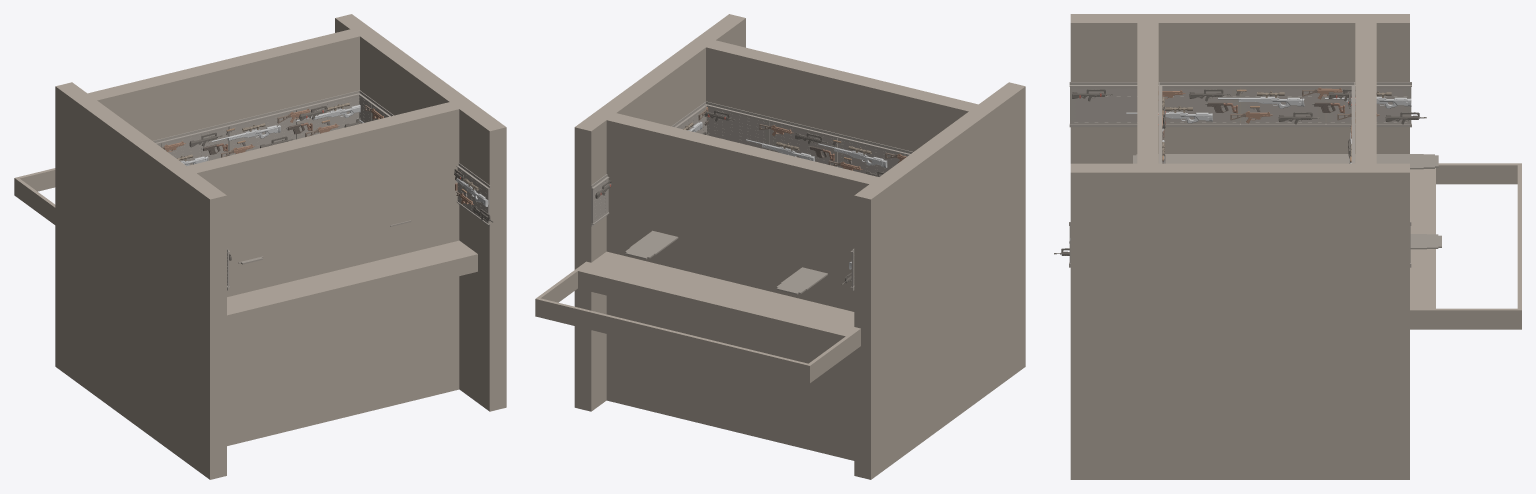
The model's file is armurerie.glb.
3 views of the same model, side by side, from view 1: azimuth 30°, elevation 25°; view 2: azimuth 150°, elevation 25°; view 3: azimuth 270°, elevation 25° (orthographic). The views are drawn at different scales.
Visible parts, largest first — view 1: Center__4_, Center__3_, Center__2_, Center__1_, Center, prop_4__2_, prop_4__1_, prop_4__3_, prop_4__3__2, Border_3, Border; view 2: Center__1_, Center__3_, Center__4_, Center__2_, Center, Border, prop_4_1, prop_4__1__1, prop_4__2__1, Border_3, prop_3_3, prop_3 (+2 smaller); view 3: Center__2_, Center__3_, Center, Center__4_, Center__1_, prop_4__2__3, prop_4_3, prop_3, prop_4__1__3, Border_2, prop_4__3__3, Border_3 (+2 smaller).
Boxes of the visible parts, box(x1,y1,x2,y2) form: Center__4_: box(184, 101, 460, 445); Center__3_: box(55, 82, 226, 479); Center__2_: box(335, 14, 506, 411); Center__1_: box(88, 29, 359, 140); Center: box(227, 240, 477, 332); prop_4__2_: box(228, 106, 296, 155); prop_4__1_: box(160, 122, 229, 165); prop_4__3_: box(296, 90, 359, 139); prop_4__3__2: box(456, 163, 490, 226); Border_3: box(16, 178, 55, 224); Border: box(14, 168, 55, 196); Center__1_: box(606, 113, 881, 460); Center__3_: box(854, 82, 1025, 479); Center__4_: box(705, 40, 981, 151); Center__2_: box(574, 14, 745, 411); Center: box(578, 251, 857, 349); Border: box(535, 297, 811, 383); prop_4_1: box(705, 101, 770, 150); prop_4__1__1: box(769, 117, 837, 166); prop_4__2__1: box(836, 133, 905, 175); Border_3: box(809, 328, 860, 381); prop_3_3: box(625, 230, 678, 259); prop_3: box(776, 267, 827, 294); Center__2_: box(1070, 163, 1409, 479); Center__3_: box(1070, 14, 1409, 163); Center: box(1410, 168, 1435, 308); Center__4_: box(1137, 21, 1158, 164); Center__1_: box(1355, 23, 1376, 164); prop_4__2__3: box(1240, 82, 1326, 127); prop_4_3: box(1069, 82, 1137, 127); prop_3: box(1133, 154, 1438, 169); prop_4__1__3: box(1158, 82, 1240, 127); Border_2: box(1410, 308, 1517, 329); prop_4__3__3: box(1326, 82, 1411, 127); Border_3: box(1436, 163, 1517, 184).
Size of the model in its own units: 885 by 800 by 1104.
